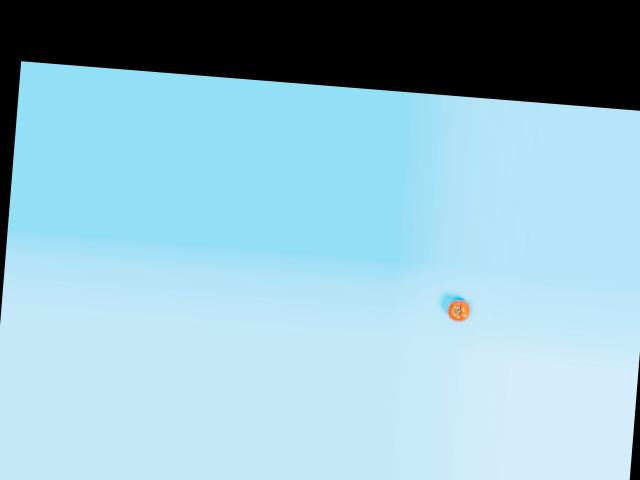tomato: (445, 298, 470, 322)
